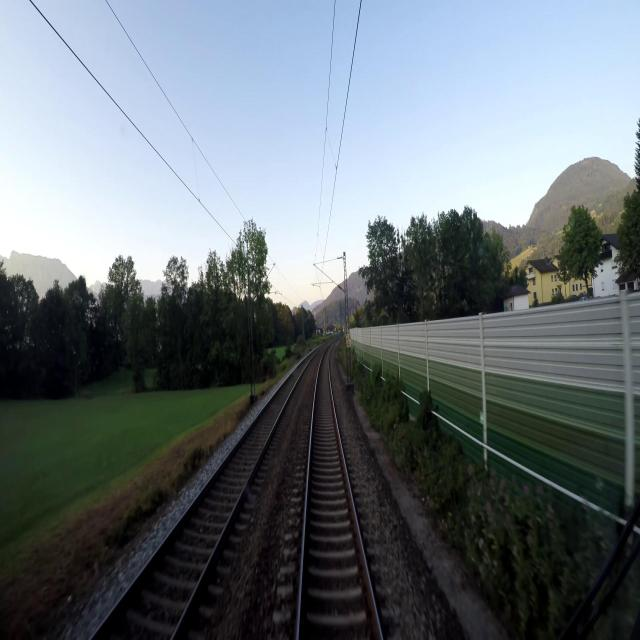rail-track: (94, 359, 307, 639), (301, 348, 379, 639)
